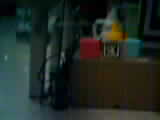duck: (99, 23, 125, 46)
